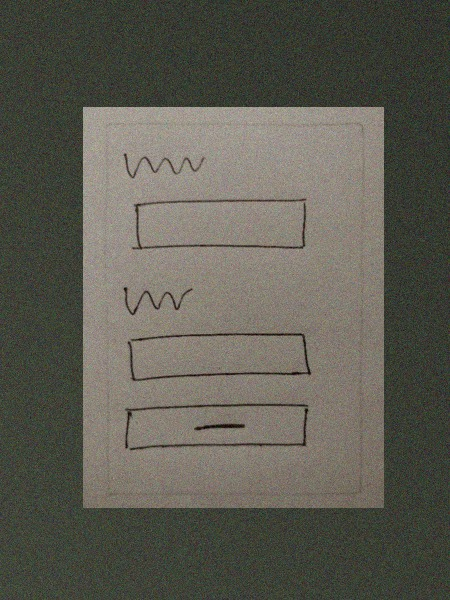button: (118, 400, 314, 456)
text: (118, 146, 208, 183), (117, 280, 197, 318)
text_input: (123, 193, 313, 258), (119, 331, 317, 387)
